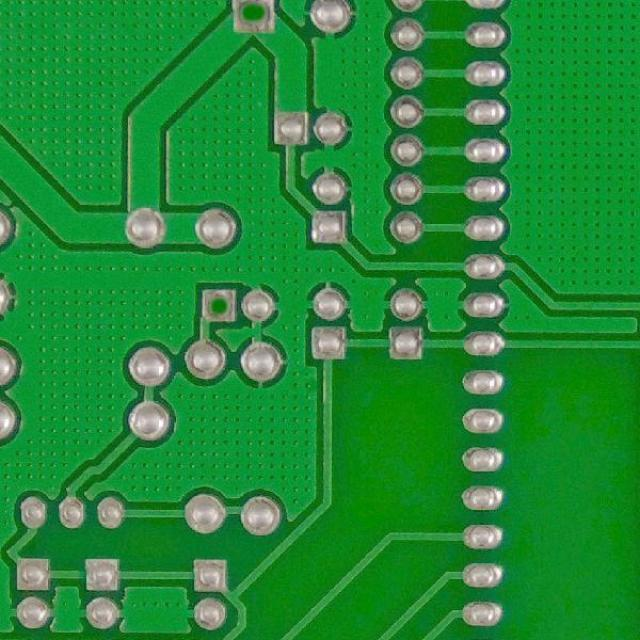Missing_Hole: (225, 0, 279, 37), (197, 284, 237, 325)
